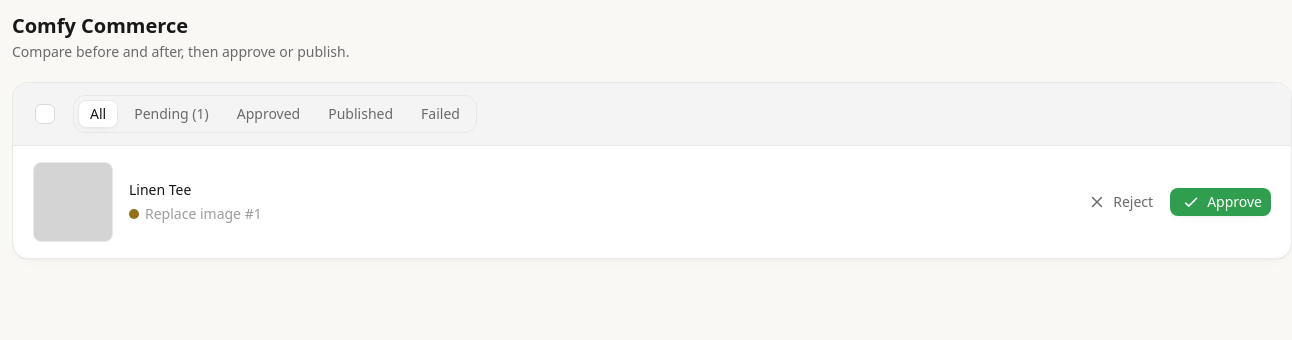
Scenario: ReviewPage error surfacing (#23) › a rejected mutation renders a dismissible error banner
Click the button "Approve" at coordinates (1221, 202), box [1170, 188, 1271, 216]
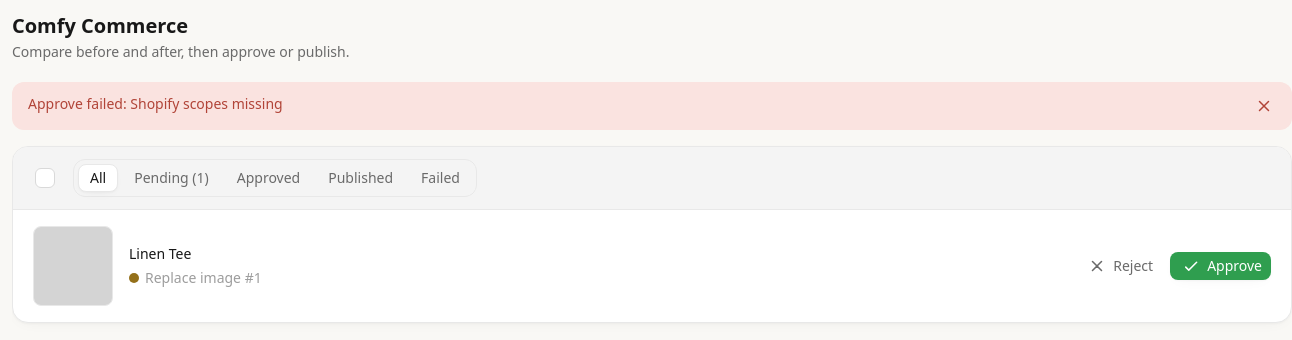
expect the message reads "Approve failed: Shopify scopes missing": met, box [28, 94, 283, 113]
Click the button named "Dismiss error" at coordinates (1264, 106), box [1252, 94, 1276, 118]
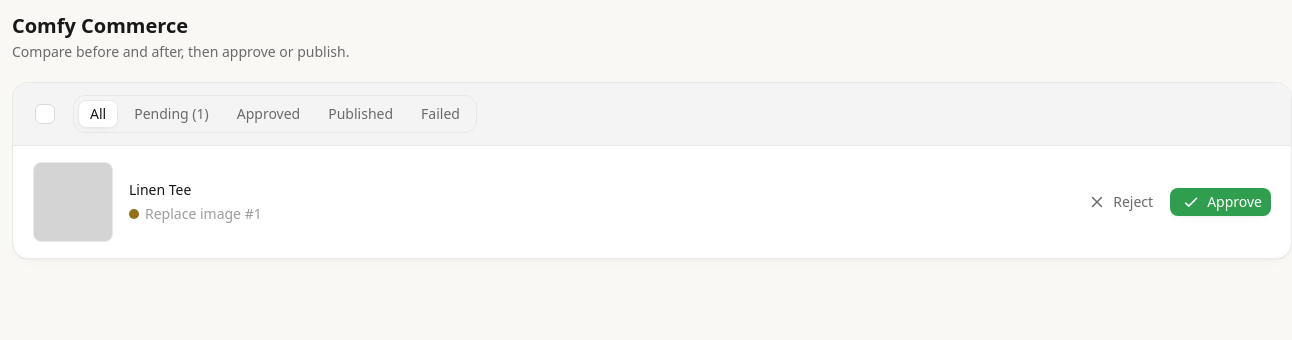
expect the message "Approve failed: Shopify scopes missing" is gone: met
